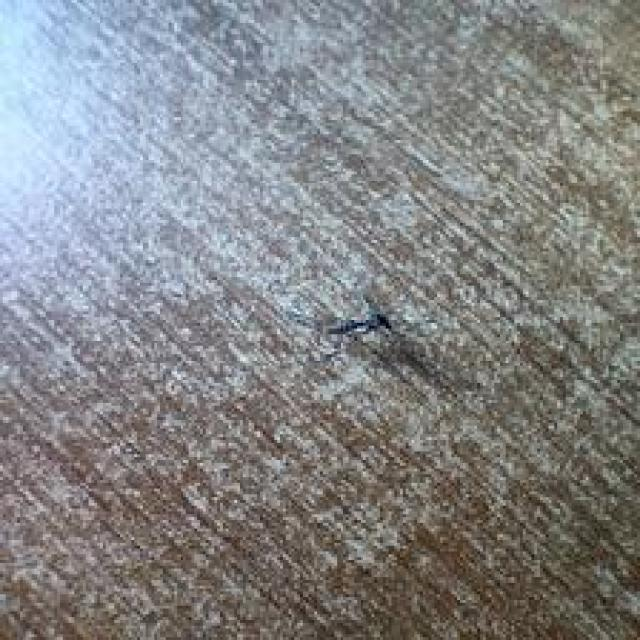Aedes albopictus: (327, 310, 393, 341)
